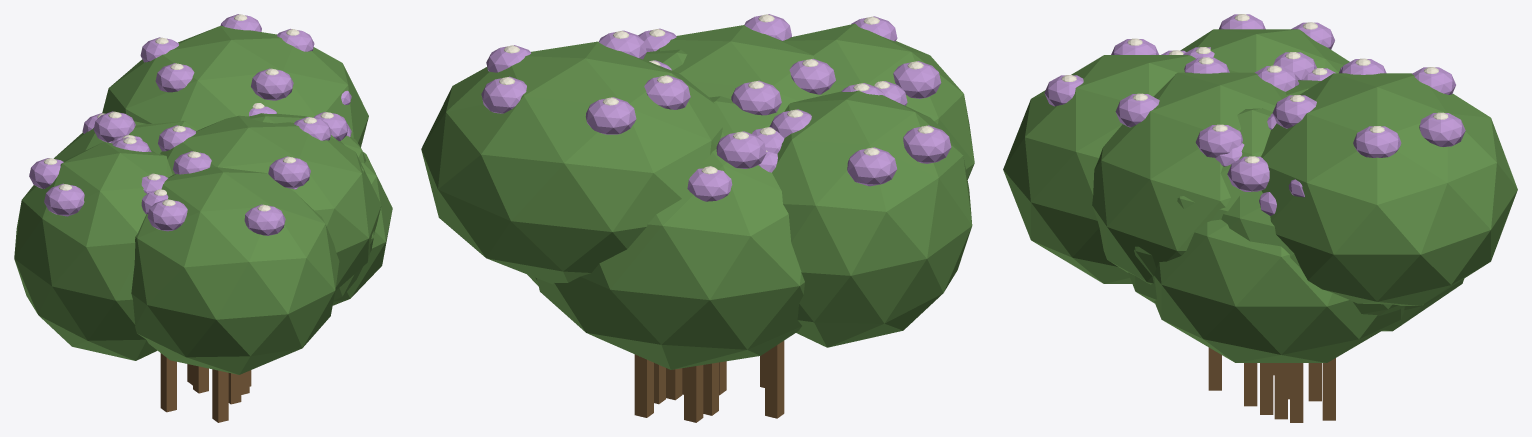
File: flowers-3.glb
3 views of the same model, side by side, from view 1: azimuth 30°, elevation 25°; view 2: azimuth 150°, elevation 25°; view 3: azimuth 270°, elevation 25° (orthographic). The views are drawn at different scales.
Visible parts, largest first — view 1: flowers-3; view 2: flowers-3; view 3: flowers-3.
Boxes of the visible parts, bbox=[...] form: flowers-3: bbox=[14, 14, 392, 422]; flowers-3: bbox=[421, 14, 974, 422]; flowers-3: bbox=[1003, 14, 1517, 422].
Bounding box in the file's own units: 2.53 × 2 × 2.7.
